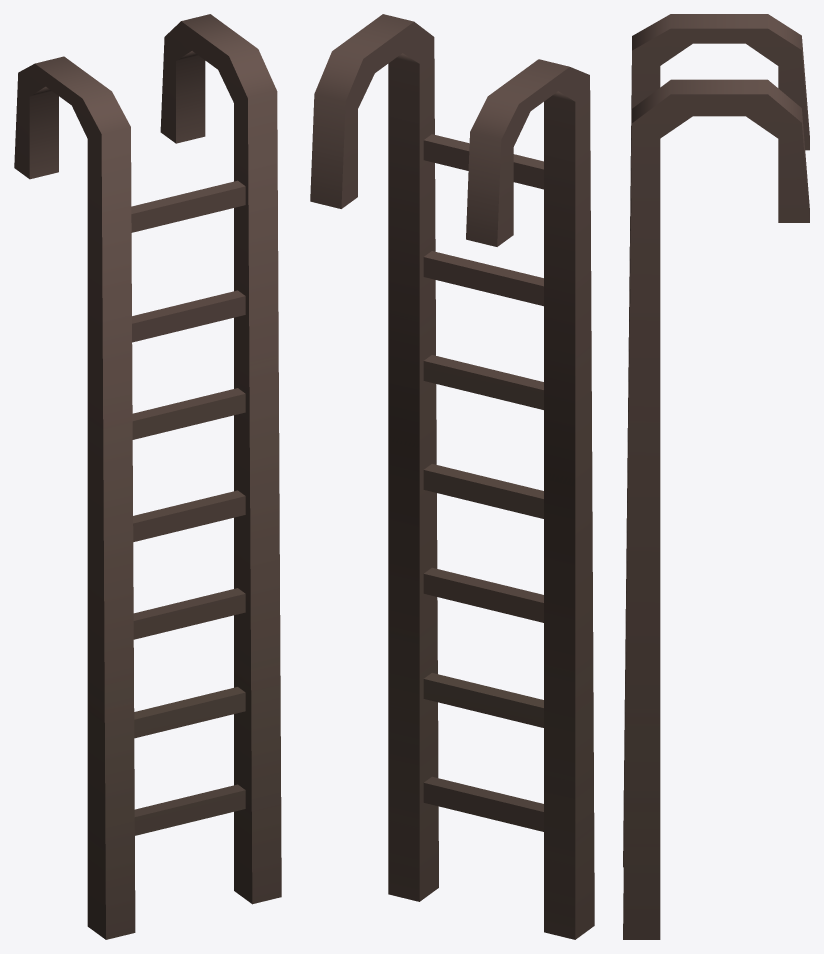
Rendered from Ladder_1_C.glb.
3 views of the same model, side by side, from view 1: azimuth 30°, elevation 25°; view 2: azimuth 150°, elevation 25°; view 3: azimuth 270°, elevation 25° (orthographic). The views are drawn at different scales.
Visible parts, largest first — view 1: Ladder_1_C; view 2: Ladder_1_C; view 3: Ladder_1_C.
Part boxes in pixels (x1,y1,x2,y2): Ladder_1_C: (14,14,281,939); Ladder_1_C: (310,14,594,939); Ladder_1_C: (623,14,809,939).
Bounding box in the file's own units: 0.6517 × 2.95 × 0.5895.
1 material, 1 textured.
